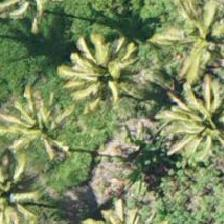coconut_tree: (52, 31, 142, 121), (0, 84, 81, 174), (158, 82, 223, 172), (156, 0, 223, 84)
